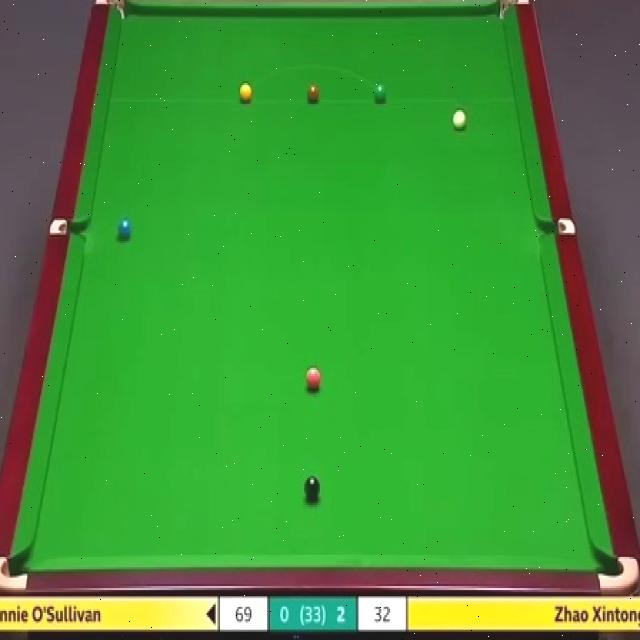black-ball: (304, 475, 320, 502)
blue-ball: (116, 216, 133, 240)
brown-ball: (306, 86, 320, 102)
green-ball: (373, 81, 388, 106)
pink-ball: (305, 365, 322, 394)
white-ball: (452, 107, 467, 130)
yellow-ball: (238, 82, 253, 104)
